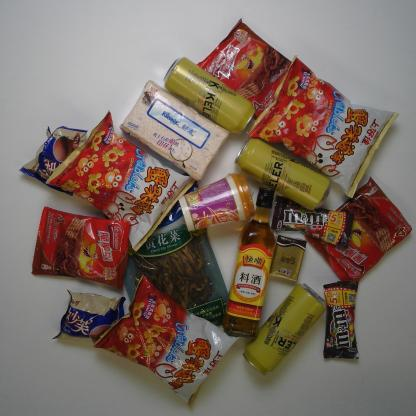Alcohol: (242, 281, 327, 374), (163, 56, 255, 134), (235, 136, 331, 210)
Chocolate: (271, 196, 355, 246), (321, 278, 362, 360)
Dessert: (306, 178, 413, 284), (196, 18, 293, 118), (30, 205, 132, 288), (20, 125, 91, 196), (53, 289, 129, 343)
Dried Food: (122, 172, 231, 327)
Instant Drink: (177, 172, 256, 232)
Puffed Food: (245, 52, 399, 201), (47, 110, 194, 251), (92, 272, 243, 406)
Seasoner: (221, 187, 278, 337)
Tissue: (119, 78, 228, 181), (269, 234, 307, 281)
